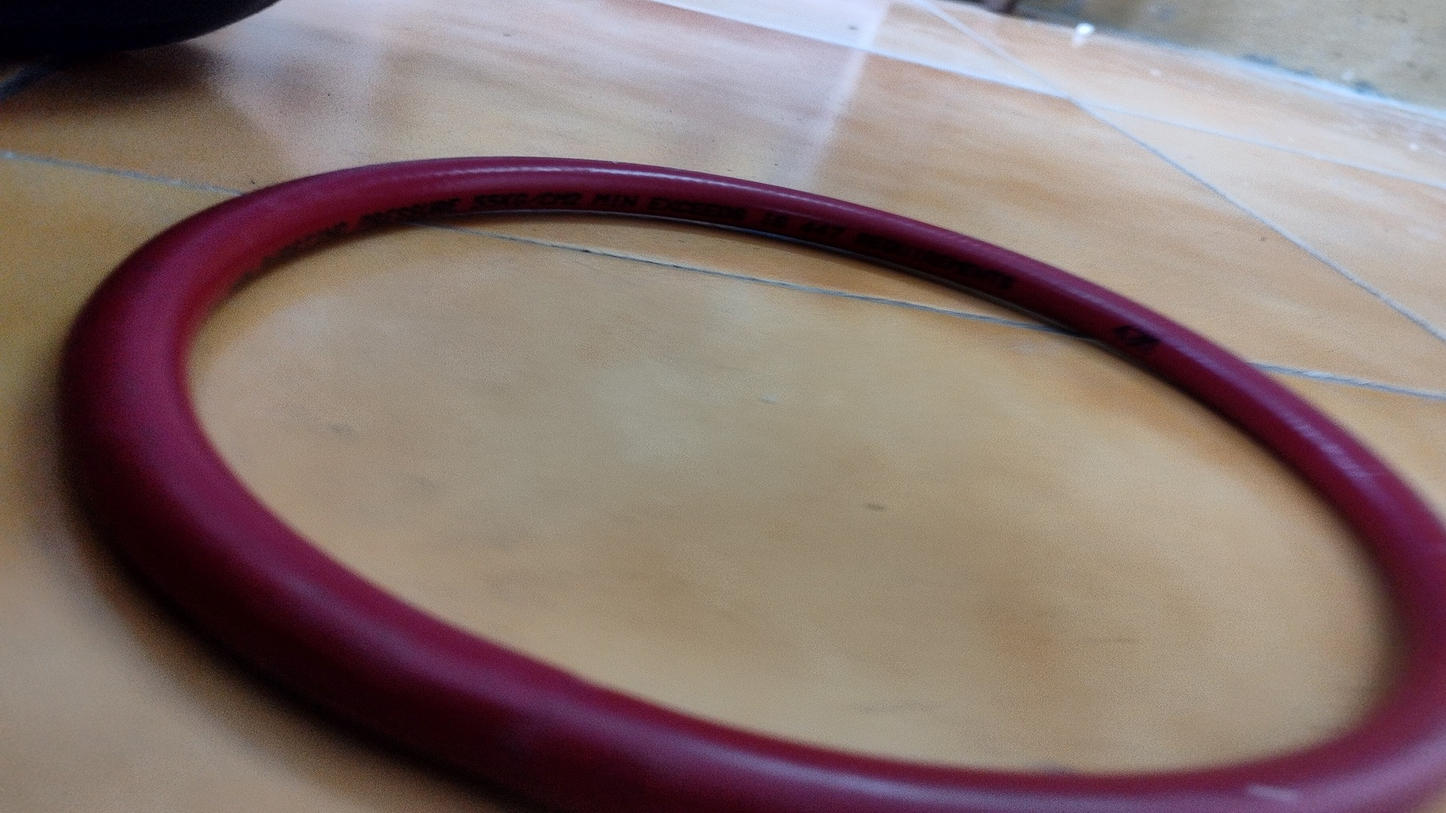Red ring: (65, 158, 1441, 804)
